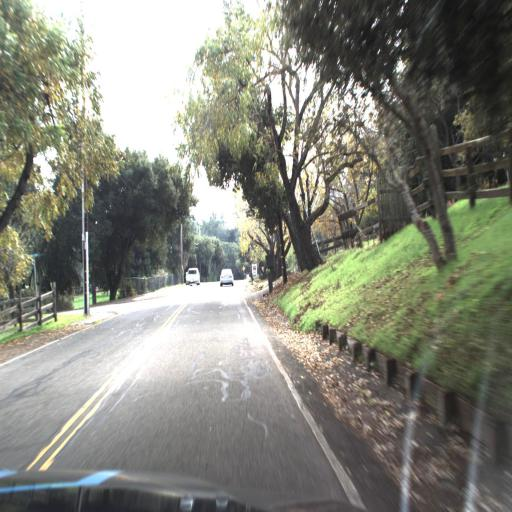car: (182, 259, 203, 290), (214, 261, 235, 289)
